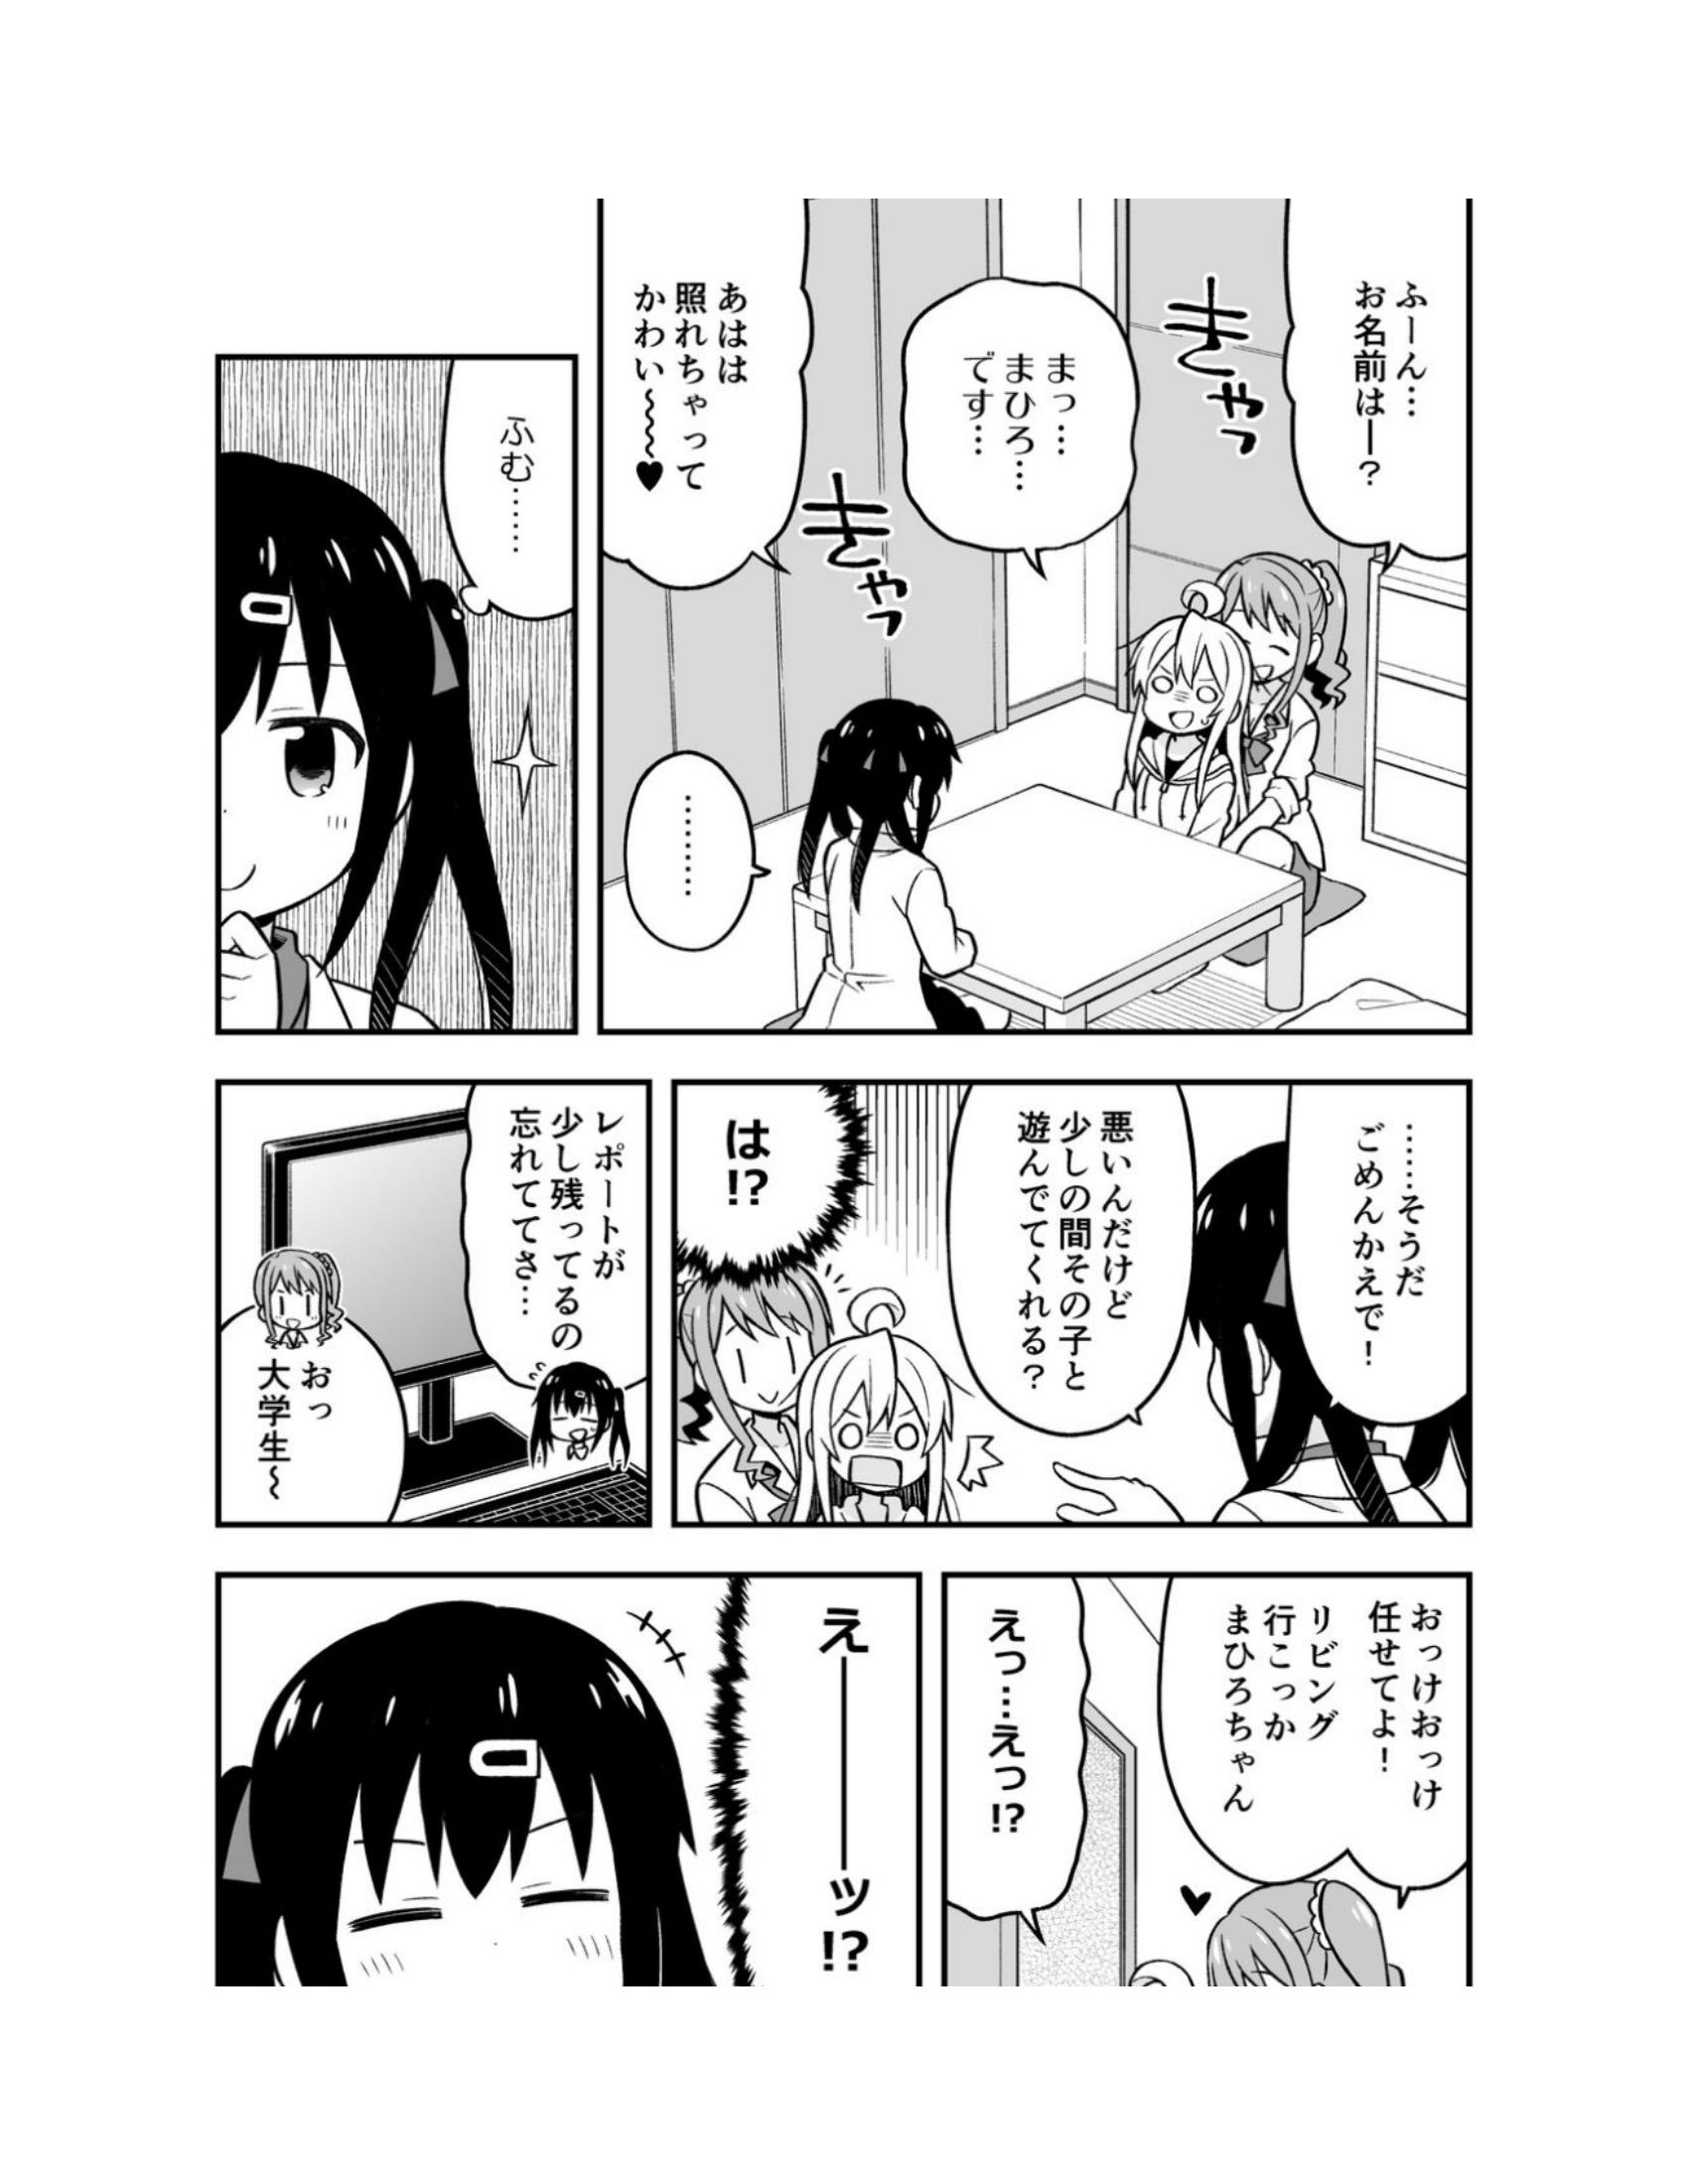a: (1160, 1569, 1459, 1915), (567, 175, 803, 581), (938, 1090, 1213, 1427), (1284, 168, 1486, 565), (931, 1555, 1106, 1945), (897, 292, 1137, 573), (1280, 1090, 1466, 1443), (456, 1071, 661, 1383), (207, 1312, 443, 1558), (676, 1083, 874, 1285)
